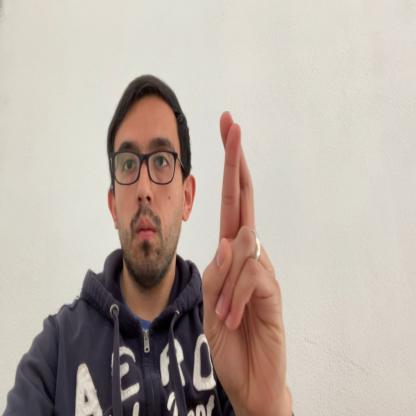R: (202, 108, 288, 409)
